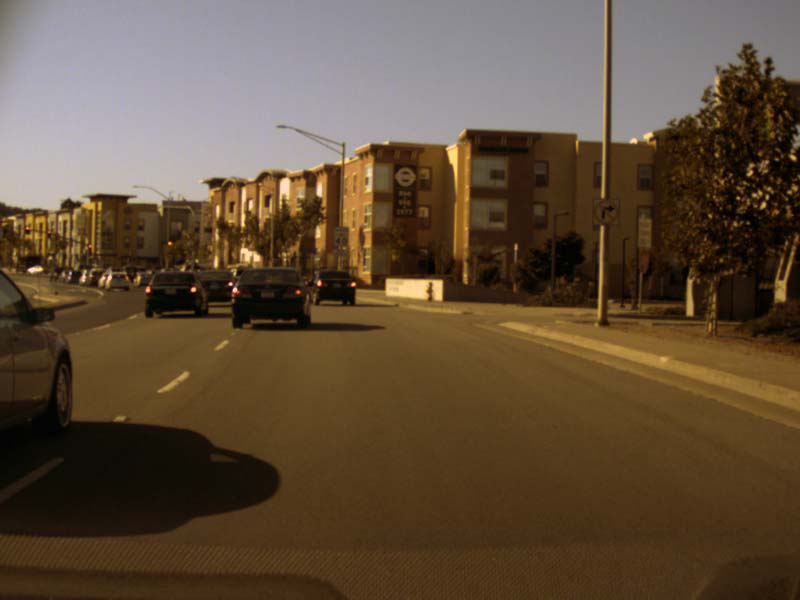Red: (24, 225, 30, 234), (46, 229, 51, 238)
